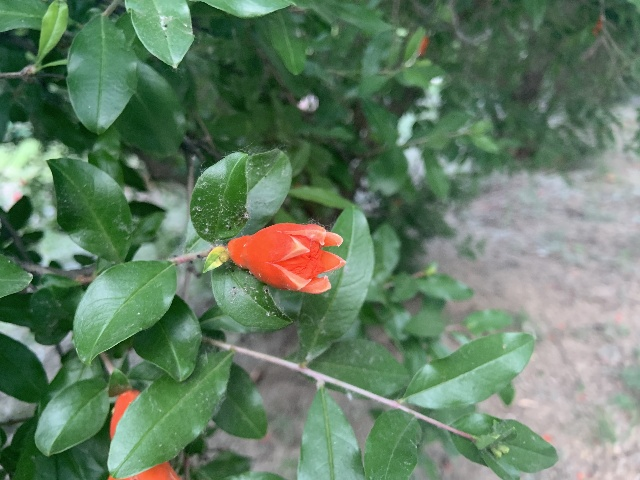flower: (226, 221, 347, 293)
